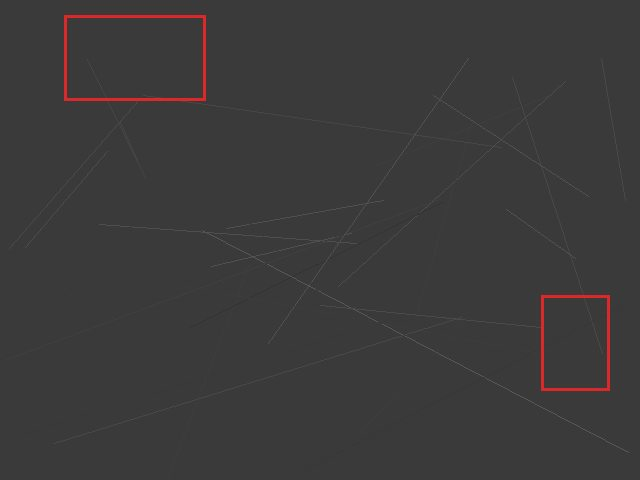D40: (64, 15, 205, 100), (541, 295, 609, 390)
